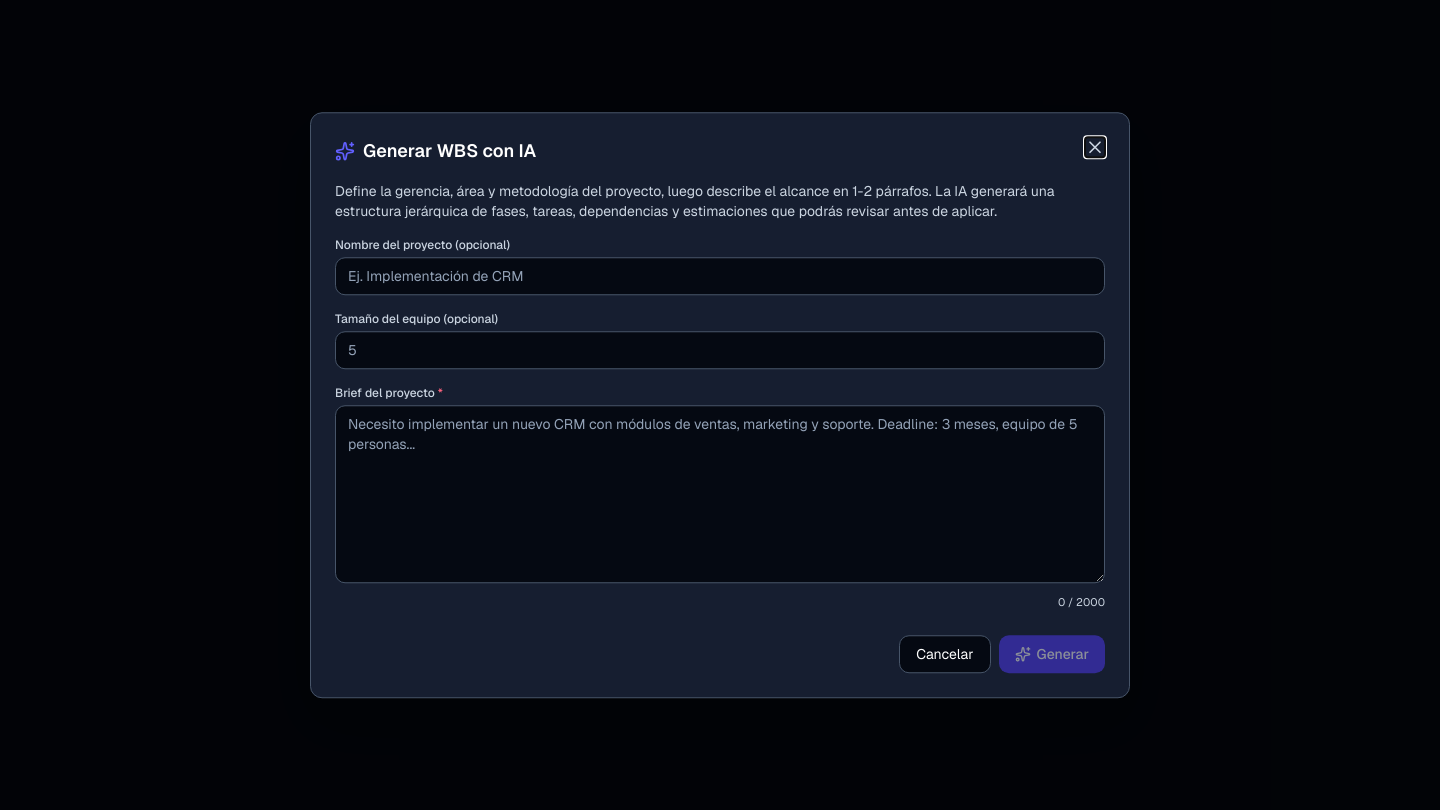
WBSGeneratorDialog › botón Descartar regresa al estado idle
Step 1. Type "Implementar CRM con módulo de ventas y soporte" into the text box labelled "Brief del proyecto *" → (720, 494), box x1=335 y1=405 x2=1105 y2=583
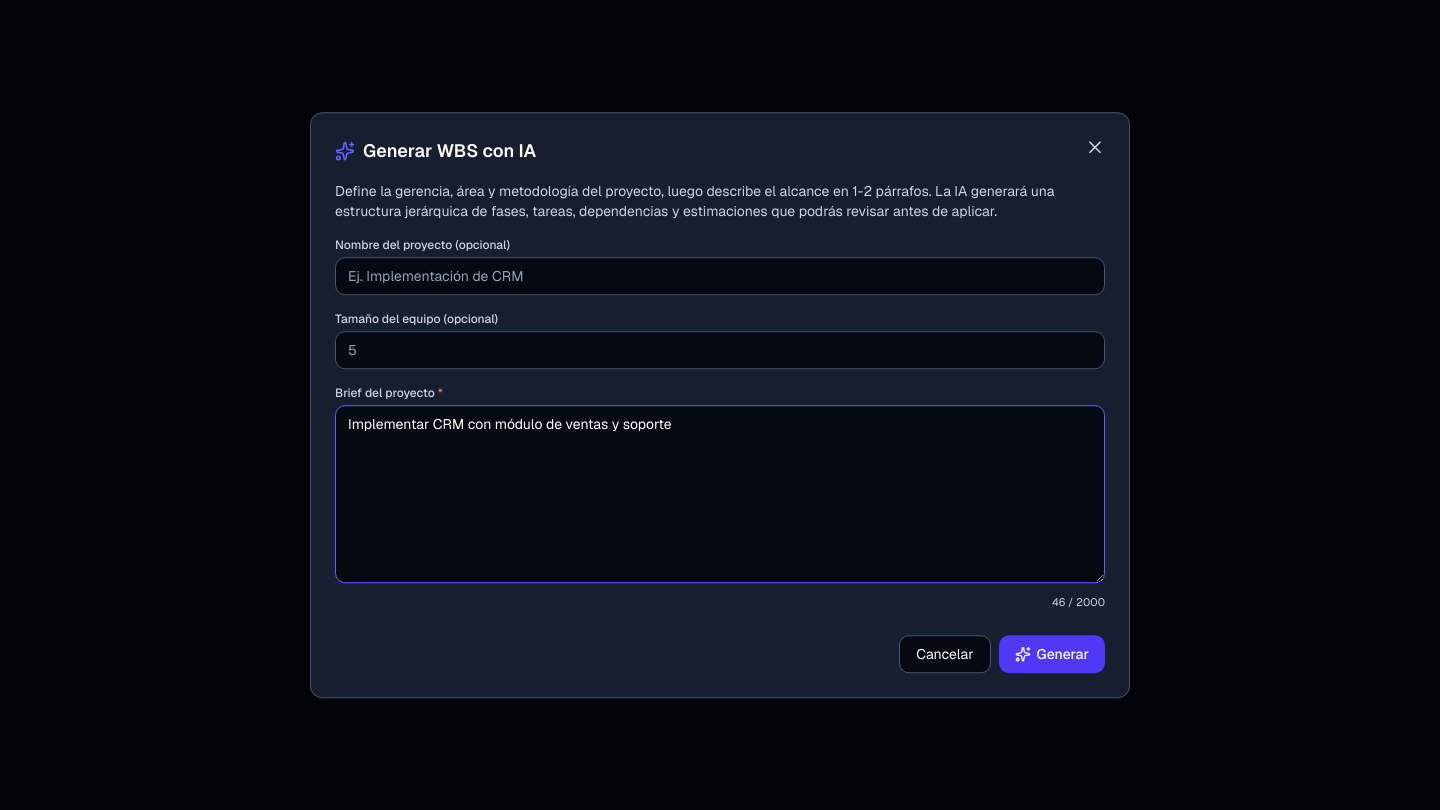
Step 2. Click the button "Generar" → (1052, 654), box x1=998 y1=635 x2=1105 y2=673
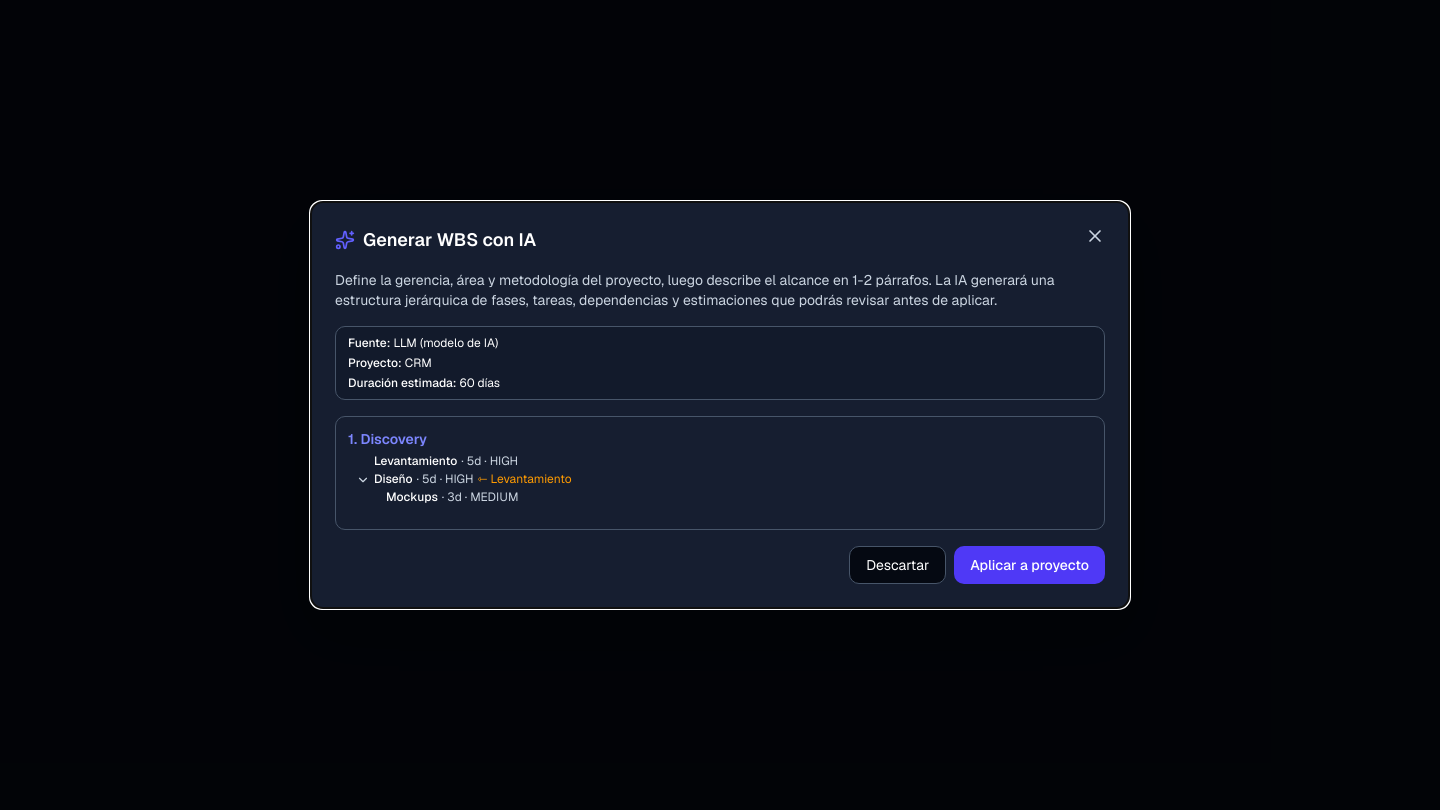
Result: the element with test id "wbs-preview" is shown at x1=335 y1=326 x2=1105 y2=584
Step 3. Click the button "Descartar" → (898, 565), box x1=849 y1=546 x2=946 y2=584
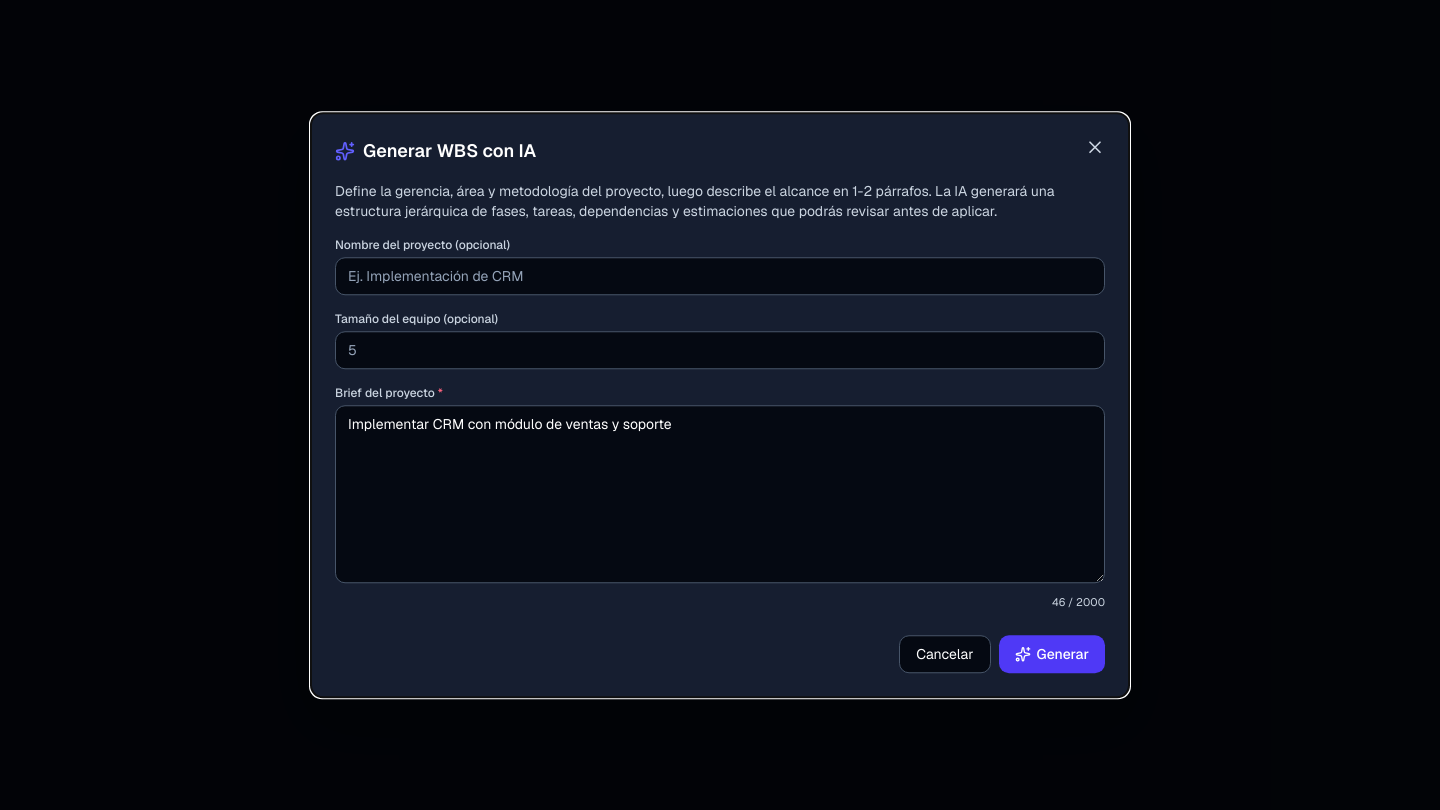
Result: the element with test id "wbs-preview" is gone
Result: the text box labelled "Brief del proyecto *" is shown at x1=335 y1=405 x2=1105 y2=583
